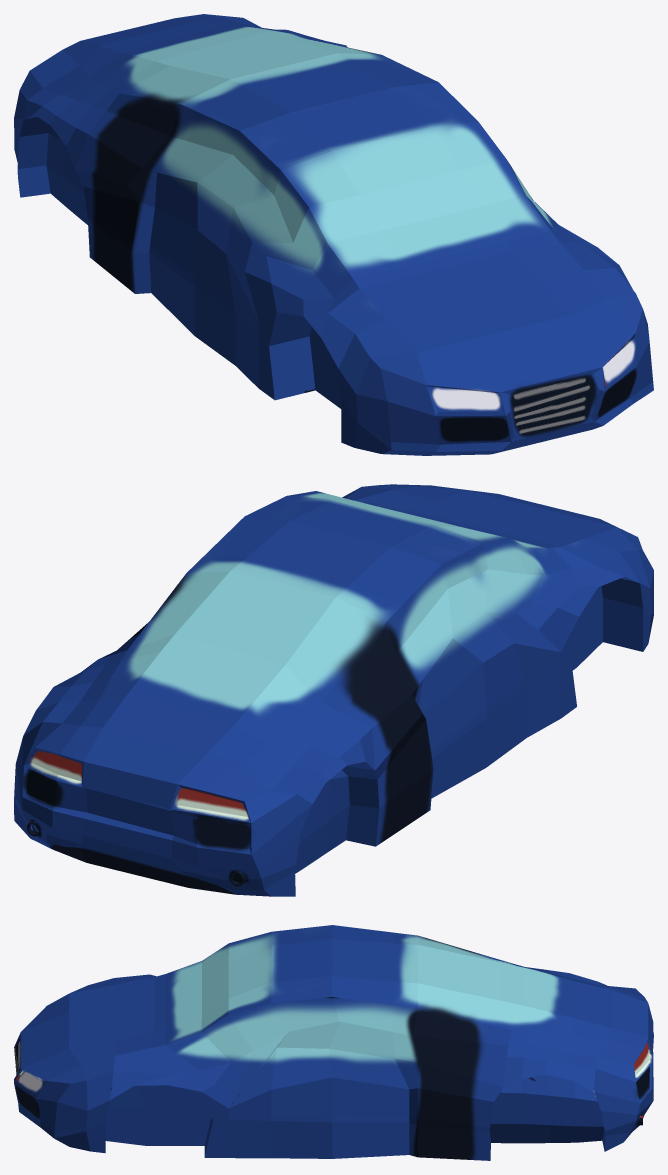
Rendered from r8-demo.gltf.
3 views of the same model, one above another, from view 1: azimuth 30°, elevation 25°; view 2: azimuth 150°, elevation 25°; view 3: azimuth 270°, elevation 25° (orthographic). The views are drawn at different scales.
Parts seen in each view (by area): view 1: Plane.007; view 2: Plane.007; view 3: Plane.007.
Boxes of the visible parts, <box> form: Plane.007: <box>14,14,653,455</box>; Plane.007: <box>14,484,653,896</box>; Plane.007: <box>14,925,653,1160</box>.
Bounding box in the file's own units: 1.35 × 0.8527 × 3.28.
Materials: 1 (1 with a texture image).
